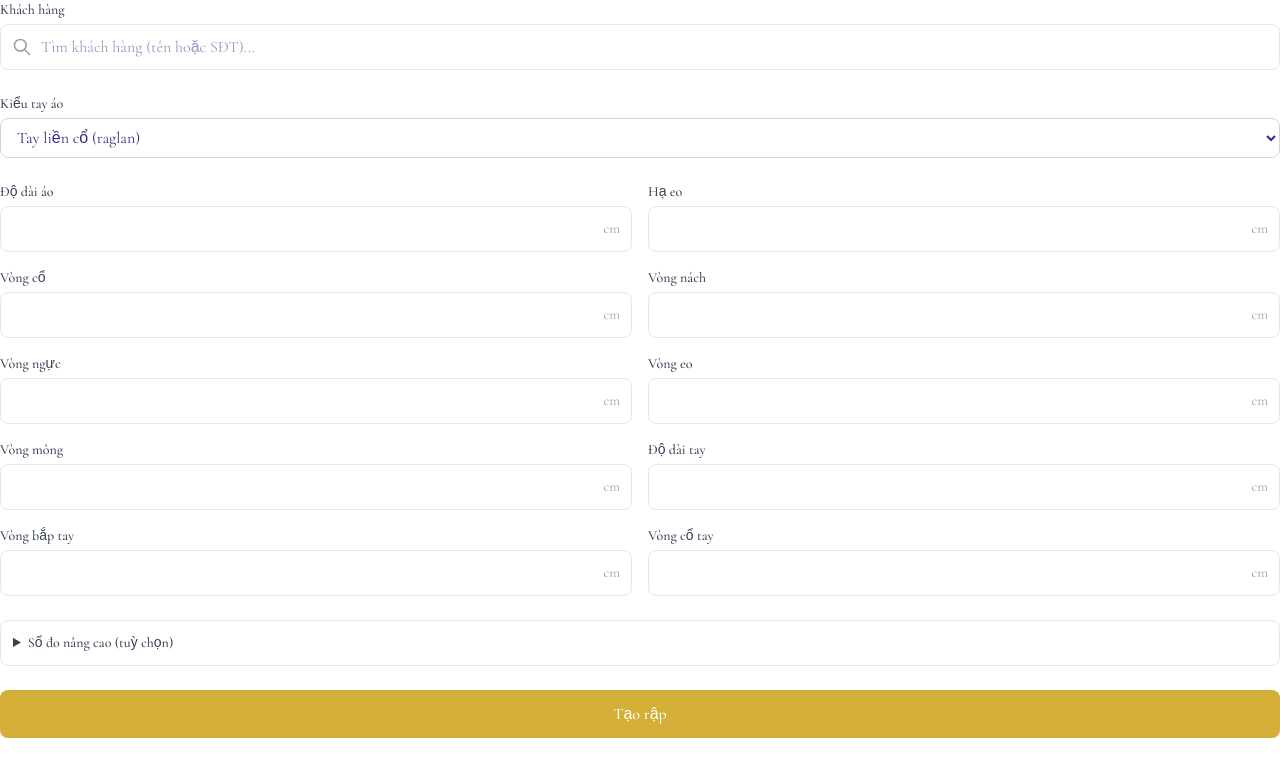
Test: MeasurementForm › auto-fills measurements from customer profile
Step 1. Type "Nguyễn" into the field with placeholder "Tìm khách hàng (tên hoặc SĐT)..." → (640, 47), box [0,24,1279,70]
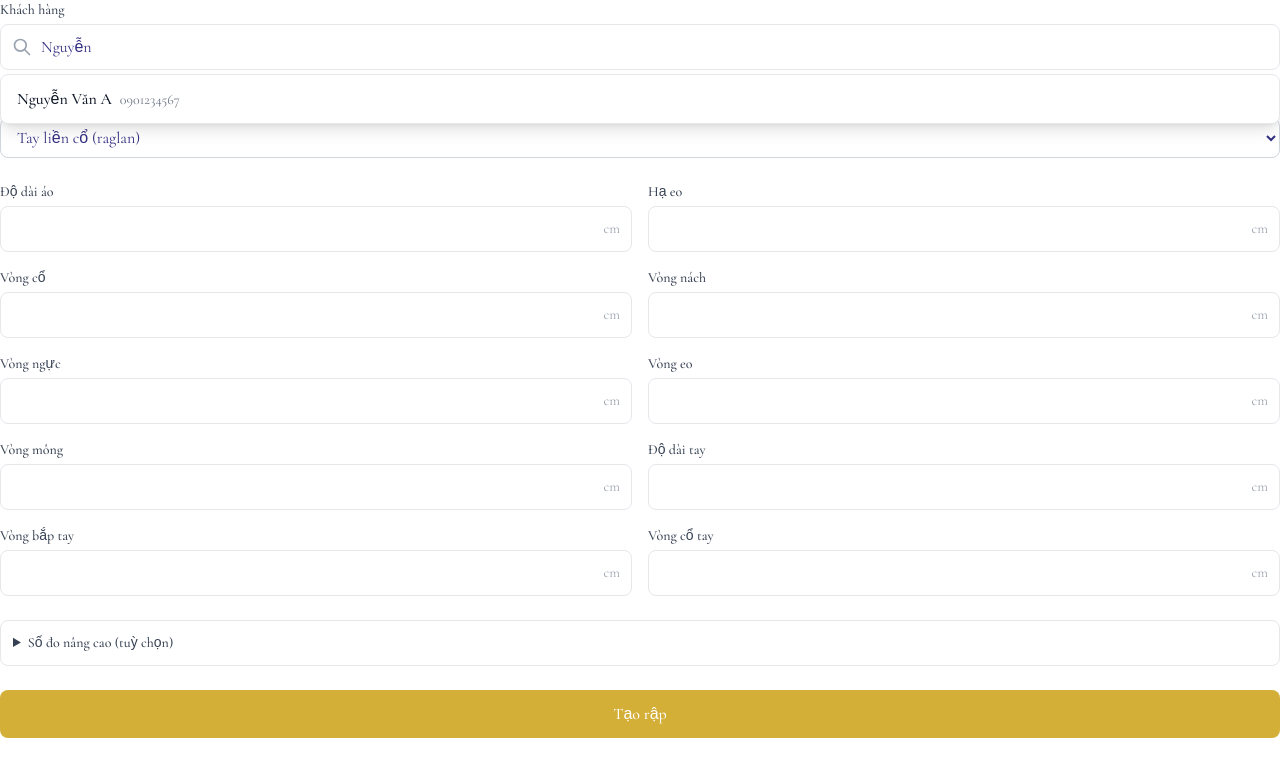
Step 2. Click the option "Nguyễn Văn A0901234567" → (64, 99), box [1,75,1279,123]
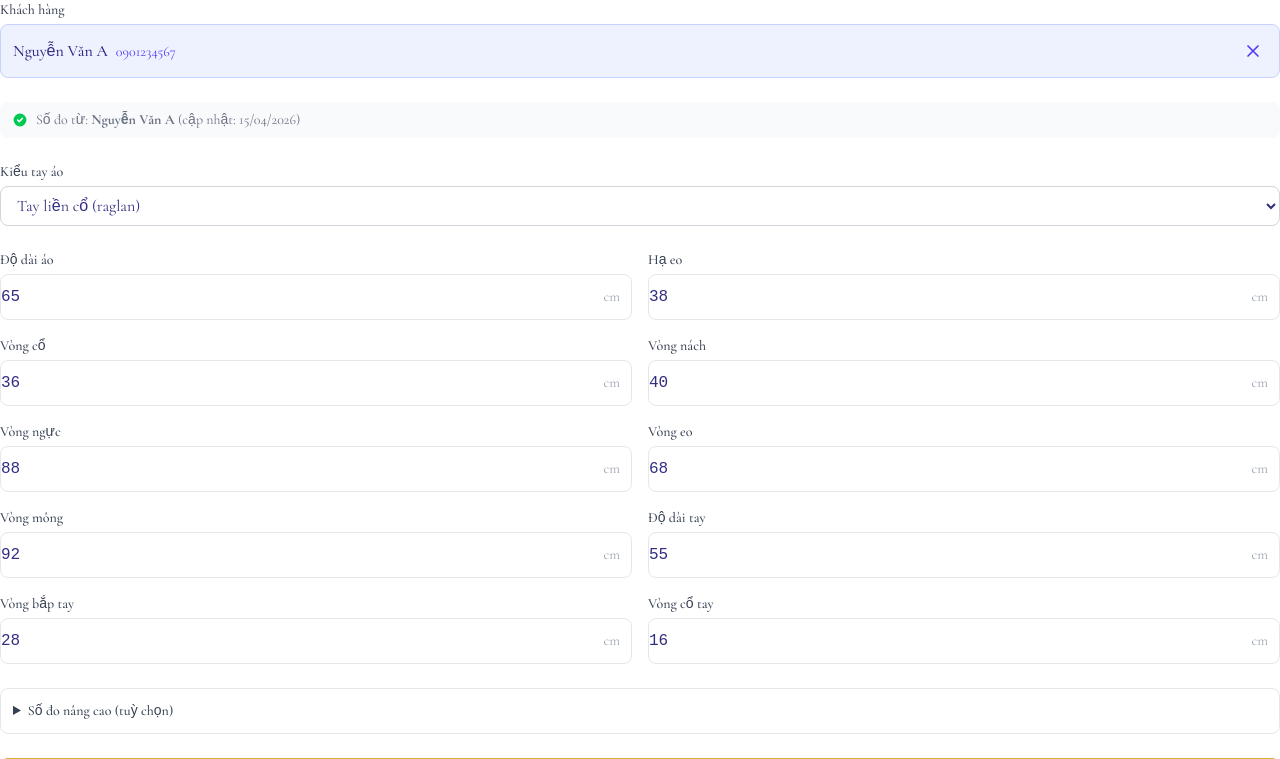
Now the text "Số đo từ: Nguyễn Văn A (cập nhật: 15/04/2026)" is shown, box [36,110,300,130]
Now the number field labelled "Vòng cổ" holds "36", box [0,360,632,406]
Now the number field labelled "Vòng ngực" holds "88", box [0,446,632,492]
